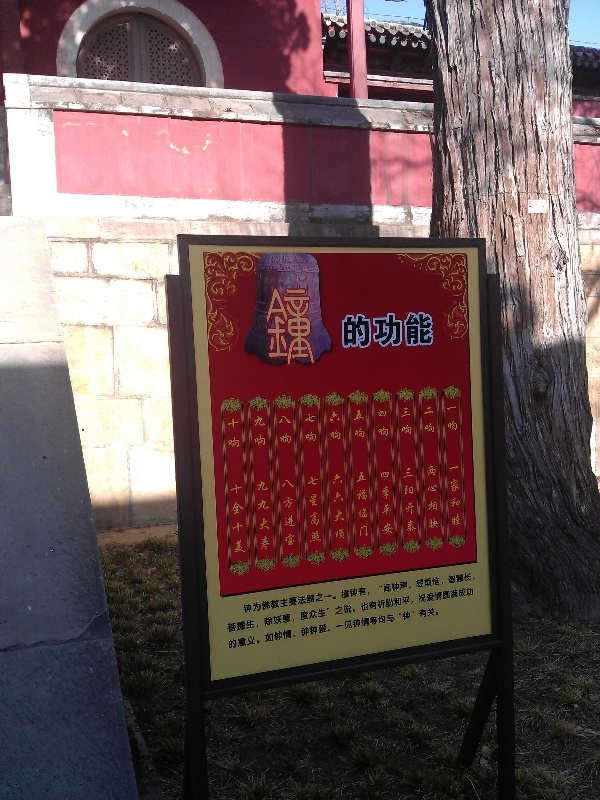text: (273, 289, 288, 365), (289, 289, 304, 365), (257, 480, 273, 551), (306, 476, 320, 543), (402, 467, 416, 533), (450, 466, 464, 527), (305, 289, 316, 365), (356, 470, 368, 539), (241, 584, 256, 634), (257, 584, 272, 634), (273, 584, 288, 634), (289, 584, 304, 634), (305, 584, 320, 634), (321, 584, 336, 634), (337, 584, 352, 634), (353, 584, 368, 634), (369, 584, 384, 634), (385, 584, 400, 634), (401, 584, 416, 634), (417, 584, 432, 634), (433, 584, 448, 634), (449, 584, 464, 634), (230, 484, 240, 555), (289, 478, 299, 548), (241, 604, 256, 650), (257, 604, 272, 650), (273, 604, 288, 650), (289, 604, 304, 650), (305, 604, 320, 650), (321, 604, 336, 650), (337, 604, 352, 650), (353, 604, 368, 650), (369, 604, 384, 650), (385, 604, 400, 650), (401, 604, 416, 650), (417, 604, 432, 650), (337, 472, 347, 541), (241, 571, 256, 615), (257, 571, 272, 615), (273, 571, 288, 615), (289, 571, 304, 615), (305, 571, 320, 615), (321, 571, 336, 615), (337, 571, 352, 615), (353, 571, 368, 615), (369, 571, 384, 615), (385, 571, 400, 615), (401, 571, 416, 615), (417, 571, 432, 615), (433, 571, 448, 615), (449, 571, 464, 615), (227, 584, 240, 634), (465, 584, 477, 634), (227, 604, 240, 650), (353, 313, 368, 352), (369, 313, 384, 352), (385, 313, 400, 352), (401, 313, 416, 352), (417, 313, 432, 352), (385, 471, 394, 535), (280, 478, 288, 548), (338, 313, 352, 352), (465, 571, 477, 615), (241, 484, 248, 555), (433, 604, 443, 650), (433, 465, 440, 530), (305, 413, 320, 443), (401, 407, 416, 436), (354, 410, 368, 438), (426, 465, 432, 530), (228, 419, 240, 449), (331, 472, 336, 541), (379, 471, 384, 535), (268, 289, 272, 365), (257, 415, 266, 447), (449, 405, 459, 432), (279, 415, 288, 445), (423, 405, 432, 434), (329, 411, 336, 441), (378, 410, 384, 437), (337, 411, 342, 441), (369, 470, 371, 539), (385, 410, 390, 437), (417, 467, 419, 533), (289, 415, 292, 445), (433, 405, 436, 434), (433, 313, 435, 352), (321, 476, 322, 543), (254, 415, 256, 447), (447, 405, 448, 432)
